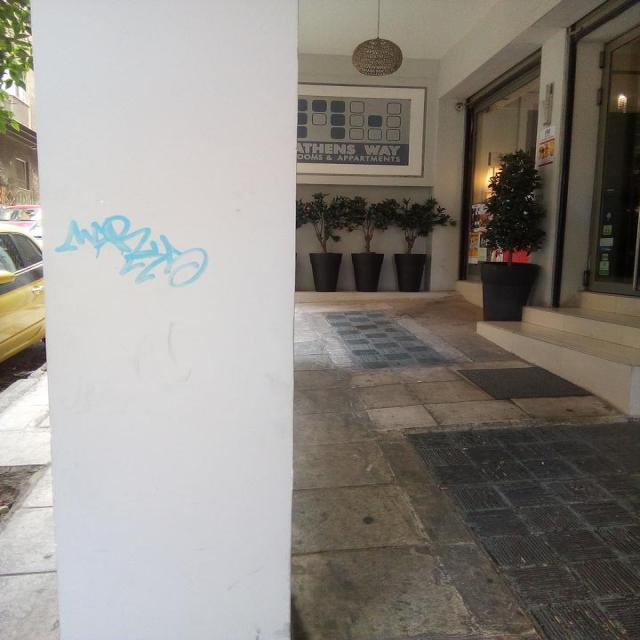nonspitting: (53, 215, 210, 288)
